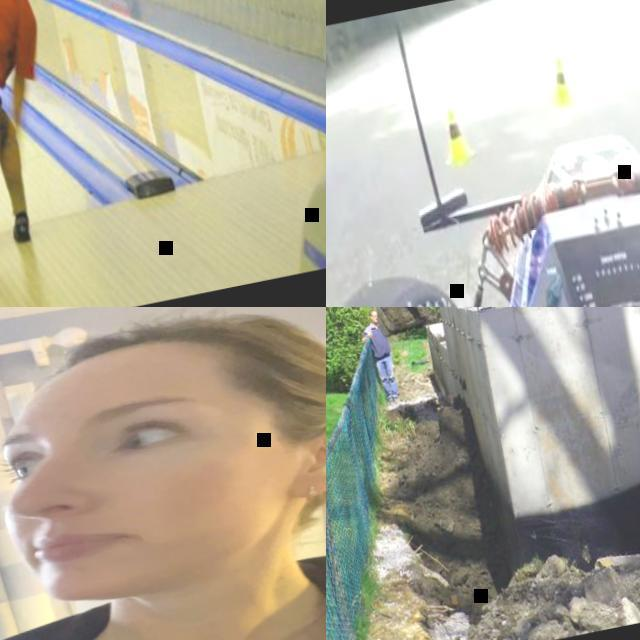Weapon: (3, 305, 329, 640)
